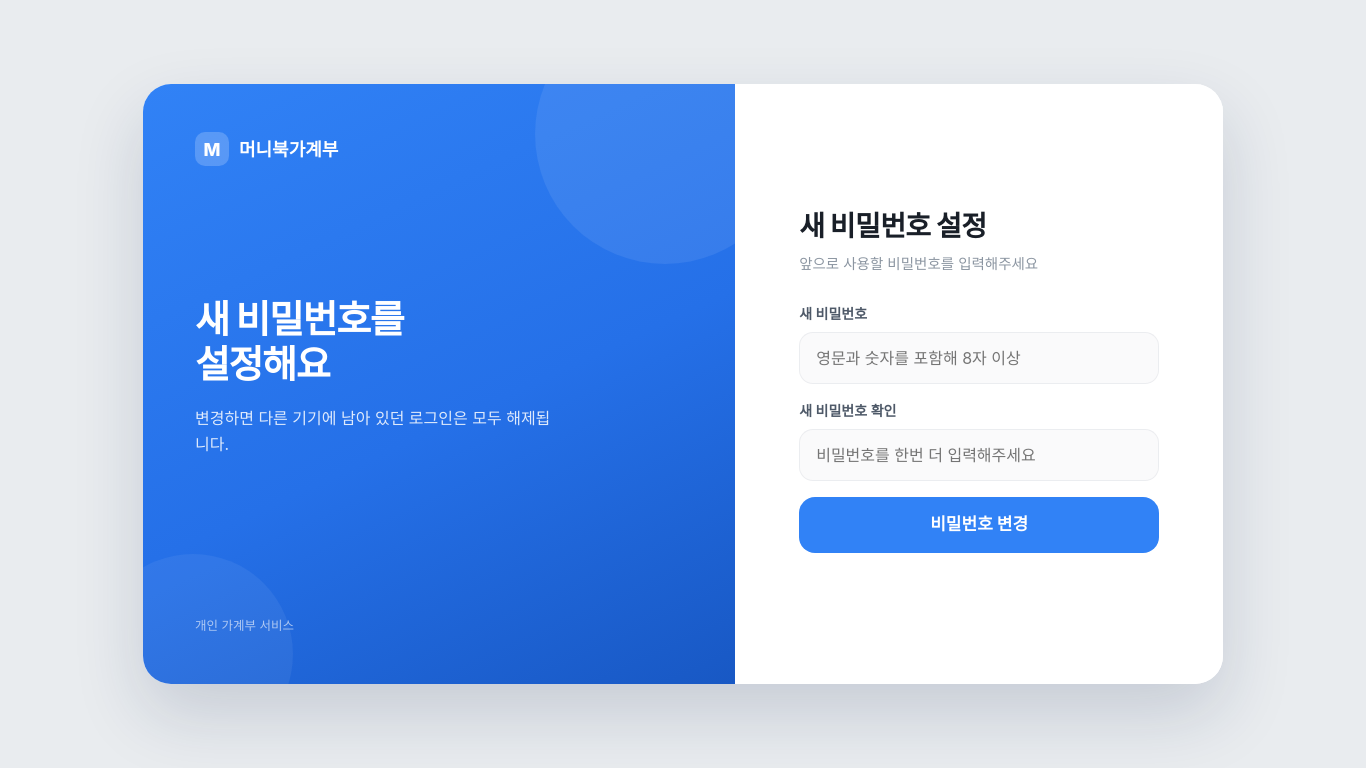
Test: ResetPasswordPage › rejects a password that breaks the rule
Step 1. Type "abcdefgh" into the password field labelled "새 비밀번호" → (979, 358), box [799,332,1159,384]
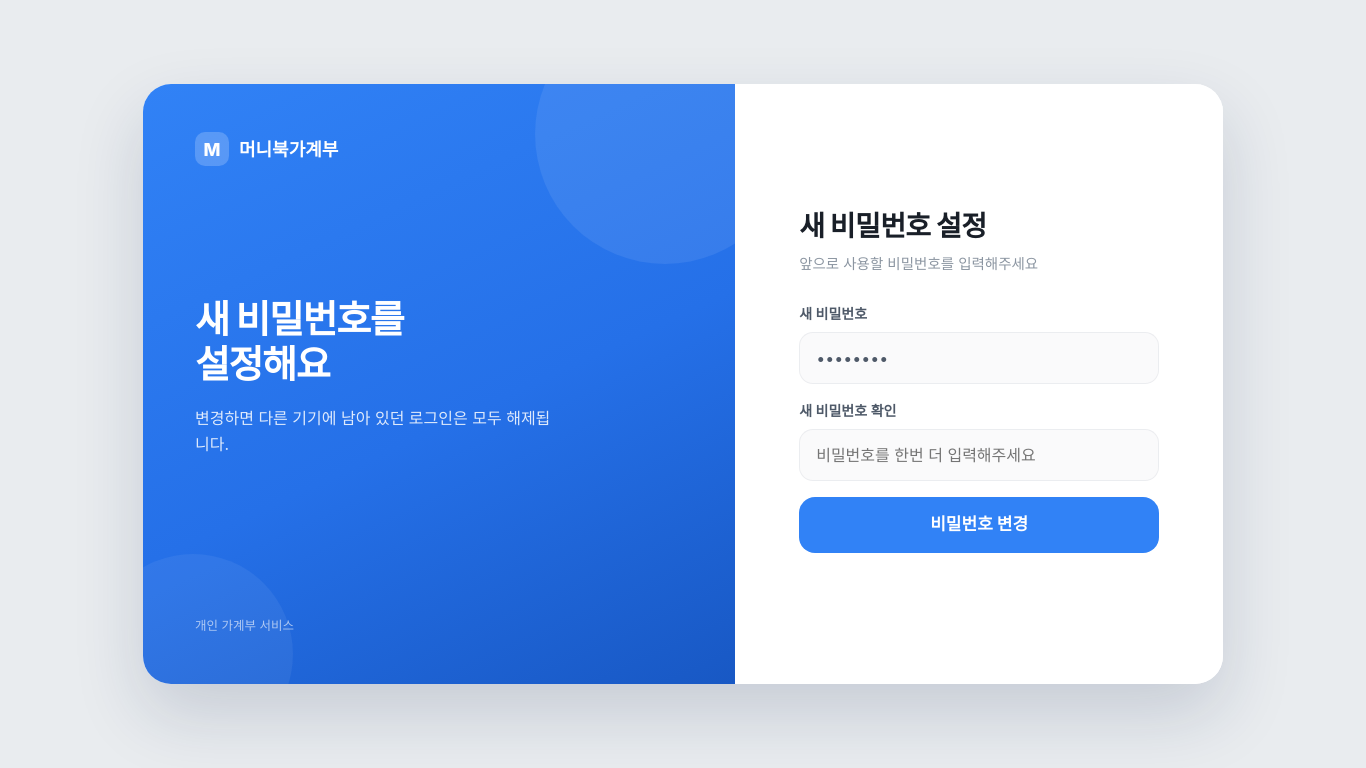
Step 2. Type "abcdefgh" into the password field labelled "새 비밀번호 확인" → (979, 455), box [799,429,1159,481]
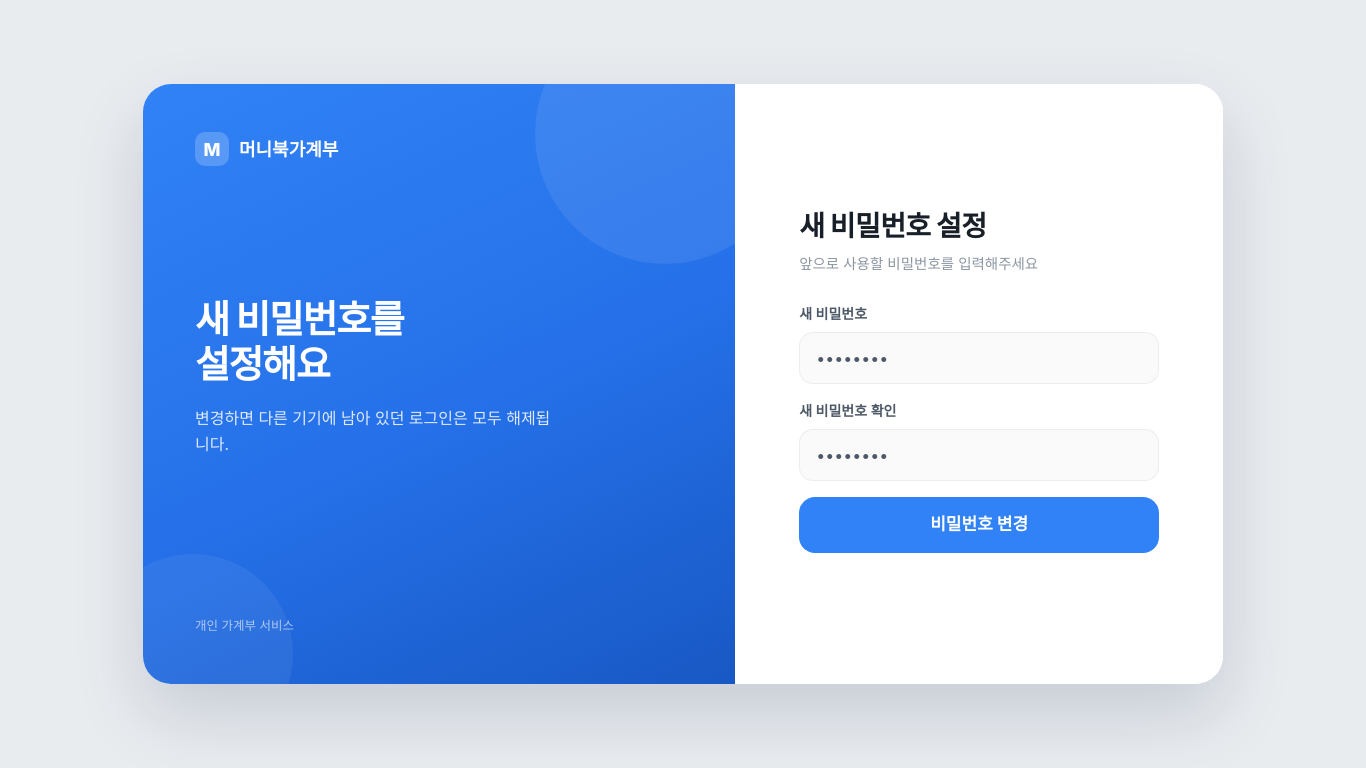
Step 3. Click the button "비밀번호 변경" → (979, 525), box [799,497,1159,553]
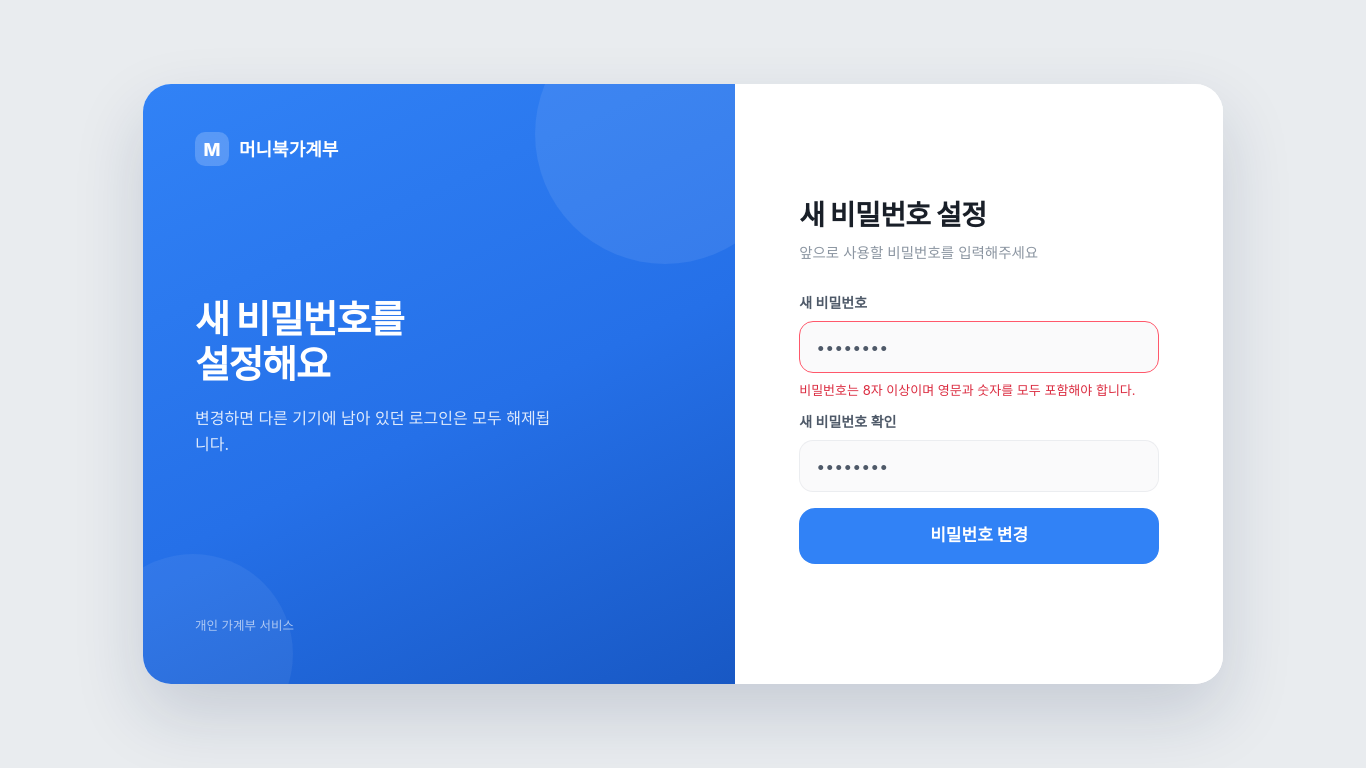
Expected: the text "비밀번호는 8자 이상이며 영문과 숫자를 모두 포함해야 합니다." is shown, [799,381,1159,399]
